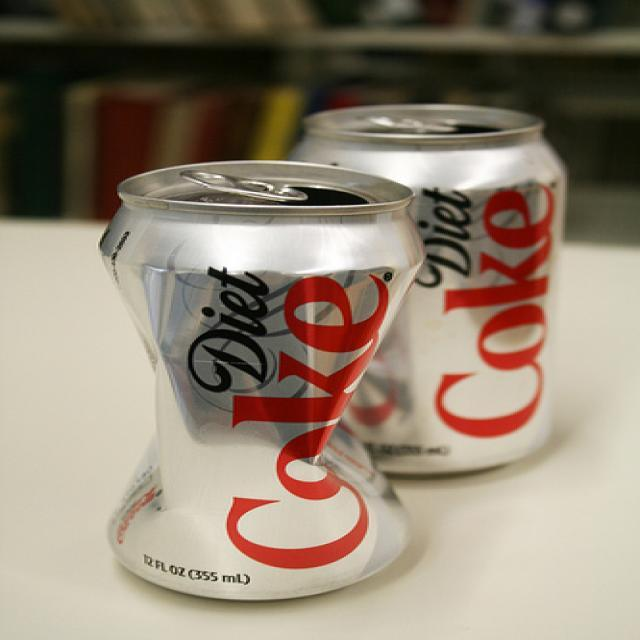can: (62, 139, 451, 616), (298, 75, 584, 482)
